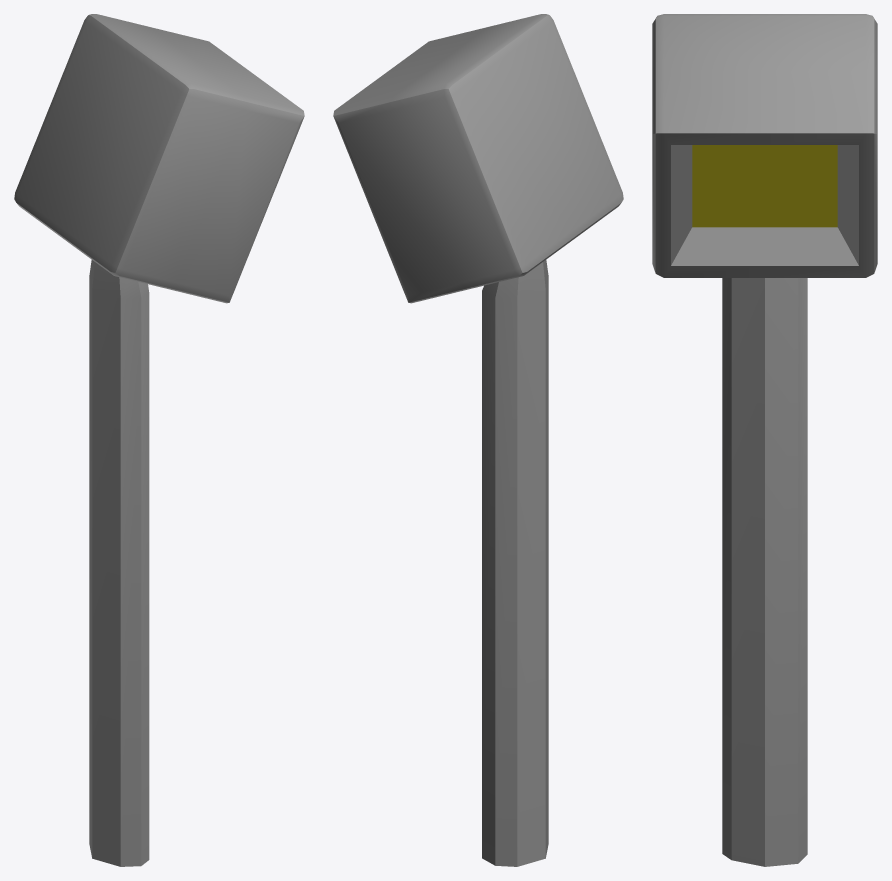
Rendered from FloodLight.fbx.
3 renders of one model, left to right at view 1: azimuth 30°, elevation 25°; view 2: azimuth 150°, elevation 25°; view 3: azimuth 270°, elevation 25°, orthographic. The views are drawn at different scales.
Parts seen in each view (by area): view 1: Cube; view 2: Cube; view 3: Cube.
Boxes of the visible parts, bbox=[...] form: Cube: bbox=[14, 14, 304, 866]; Cube: bbox=[333, 14, 623, 866]; Cube: bbox=[652, 14, 877, 866].
Bounding box in the file's own units: 148 × 582 × 140.
